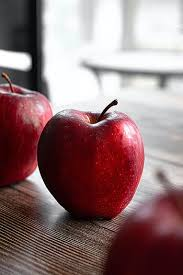apple: (1, 69, 52, 194)
